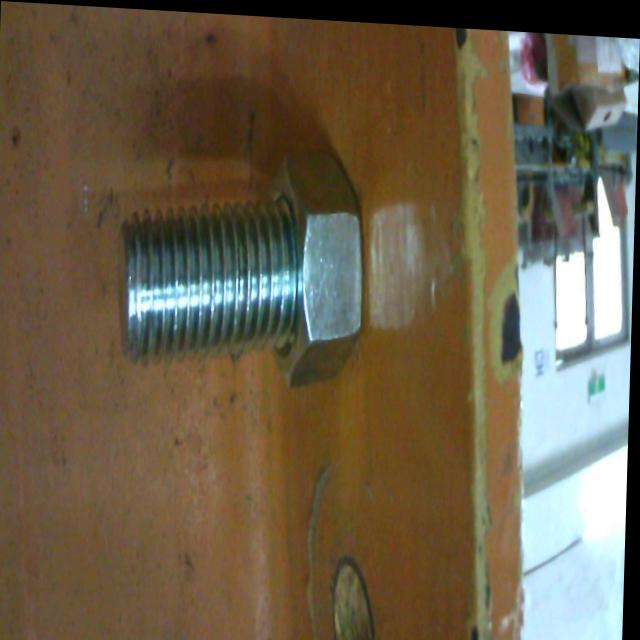Missing bolt: (332, 555, 384, 640)
Regular bolt: (116, 143, 372, 394)
